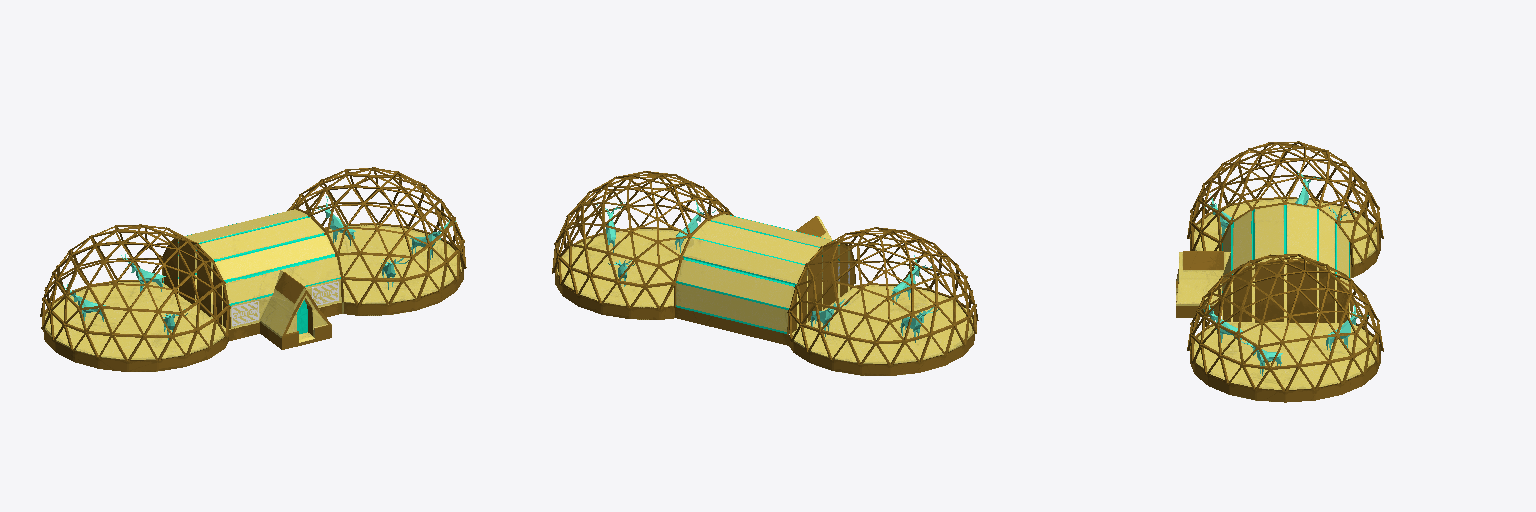
The picture shows the model from 3 angles: view 1: azimuth 30°, elevation 25°; view 2: azimuth 150°, elevation 25°; view 3: azimuth 270°, elevation 25°; orthographic projection.
Parts seen in each view (by area): view 1: drorania_barn, drorania_barn_creatures; view 2: drorania_barn, drorania_barn_creatures; view 3: drorania_barn, drorania_barn_creatures.
Part boxes in pixels (bbox=[...]): drorania_barn: bbox=[40, 167, 466, 371]; drorania_barn_creatures: bbox=[63, 196, 455, 339]; drorania_barn: bbox=[552, 171, 978, 375]; drorania_barn_creatures: bbox=[597, 200, 938, 342]; drorania_barn: bbox=[1176, 141, 1383, 402]; drorania_barn_creatures: bbox=[1203, 171, 1368, 375].
Size of the model in its own units: 459 by 109 by 206.
Materials: 2 (2 with a texture image).